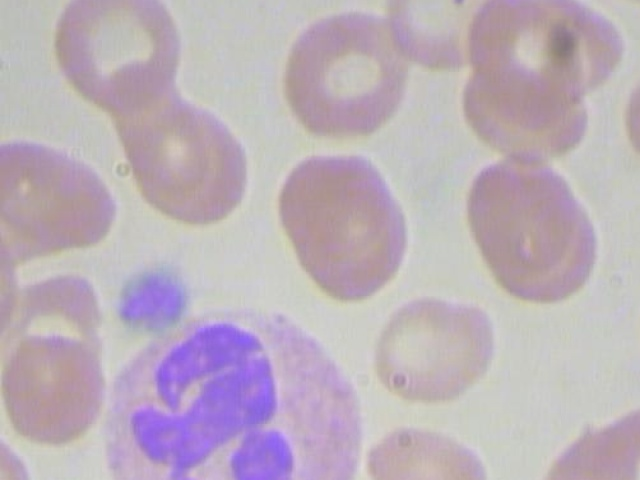Platelets: (108, 256, 198, 335)
RBC: (270, 147, 416, 299), (452, 151, 598, 303), (279, 3, 419, 149), (366, 293, 509, 411), (44, 0, 184, 111), (0, 328, 108, 449), (357, 404, 500, 480), (0, 216, 20, 359), (0, 424, 44, 480)
WBC: (75, 309, 377, 480)
